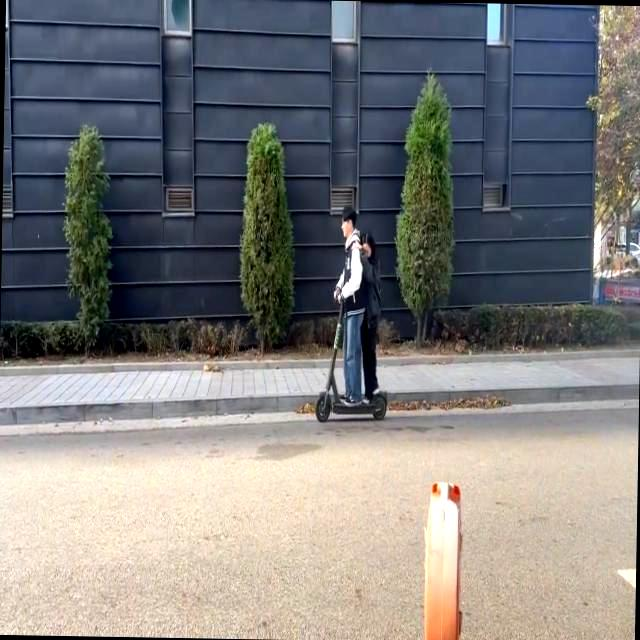bare_head: (353, 229, 378, 260), (338, 209, 356, 236)
human: (332, 205, 364, 406), (352, 225, 384, 403)
kickboard: (312, 387, 390, 422)
